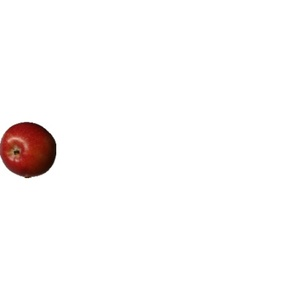maçã braeburn: (1, 121, 58, 180)
